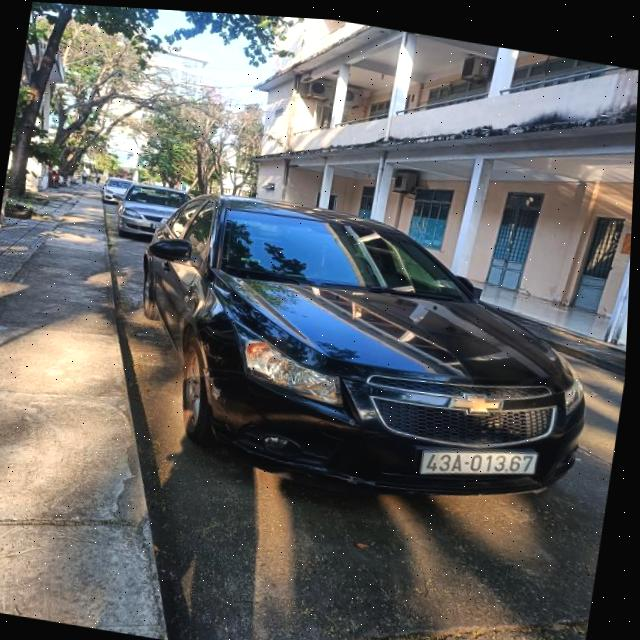car: (123, 180, 619, 540), (110, 175, 188, 250)
plate: (416, 434, 541, 493)
